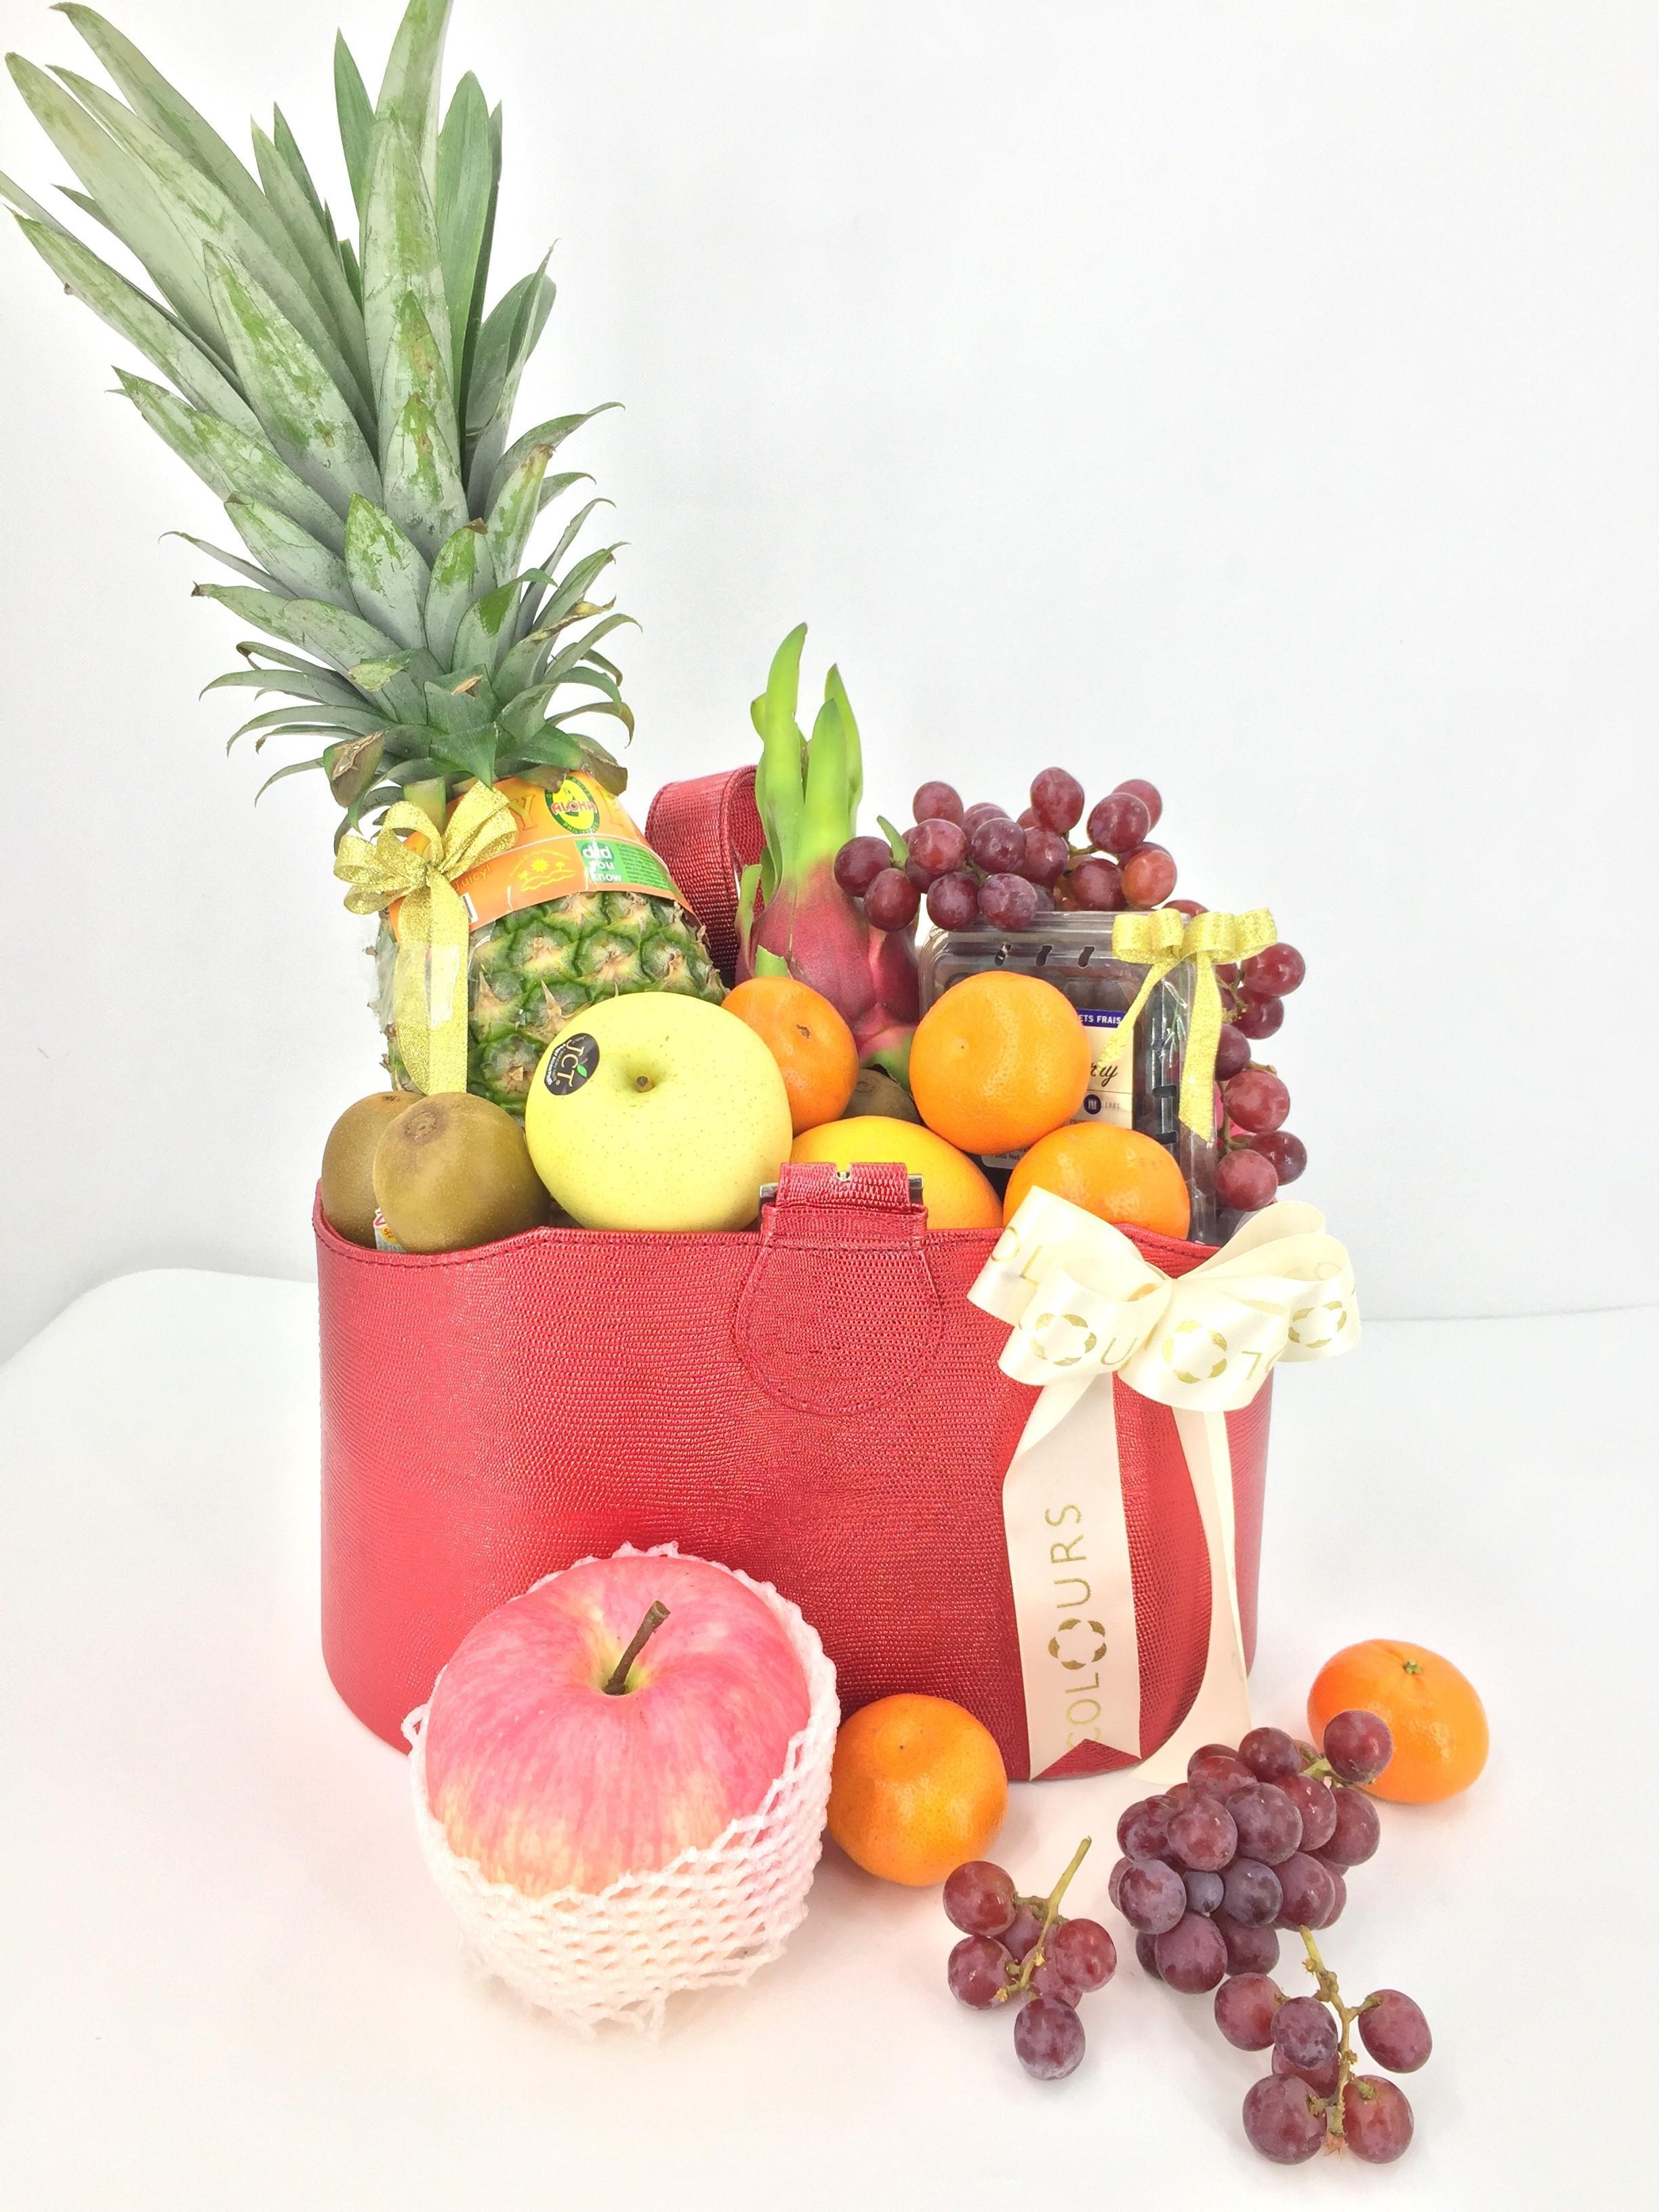apple: (410, 1540, 842, 2013)
